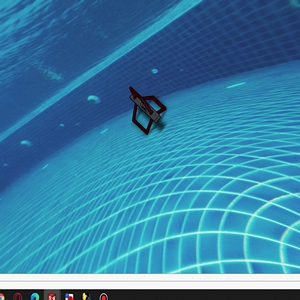submarine: (124, 87, 168, 130)
